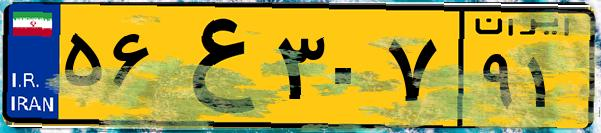0: (330, 28, 385, 110)
1: (525, 38, 570, 115)
3: (270, 28, 330, 110)
5: (57, 26, 110, 100)
6: (110, 28, 158, 98)
7: (385, 28, 445, 110)
9: (475, 38, 525, 113)
ع: (158, 12, 270, 120)
